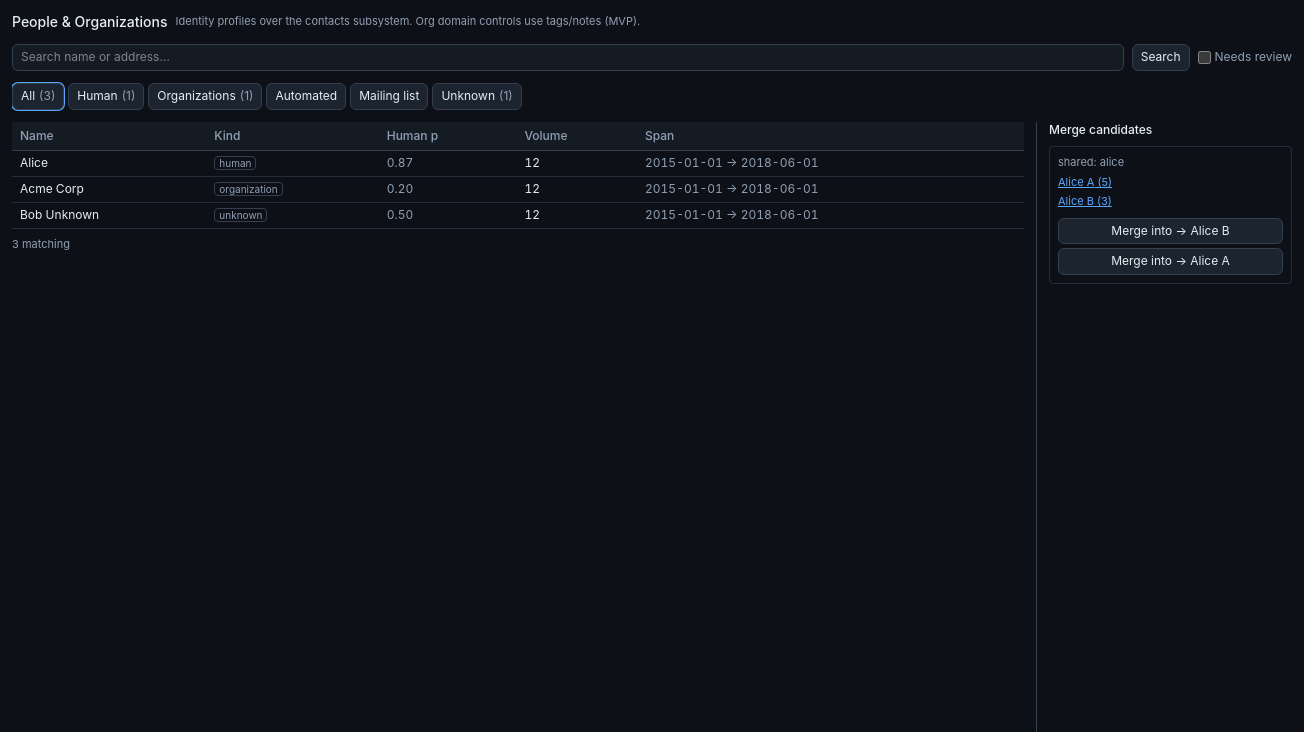
Test: PeoplePage › needs-review toggle filters to unknown queue
expect the row with test id "people-row-c1" is shown: met, box [12, 151, 1024, 177]
Click the checkbox with test id "people-needs-review": (1204, 57) [1198, 51, 1211, 64]
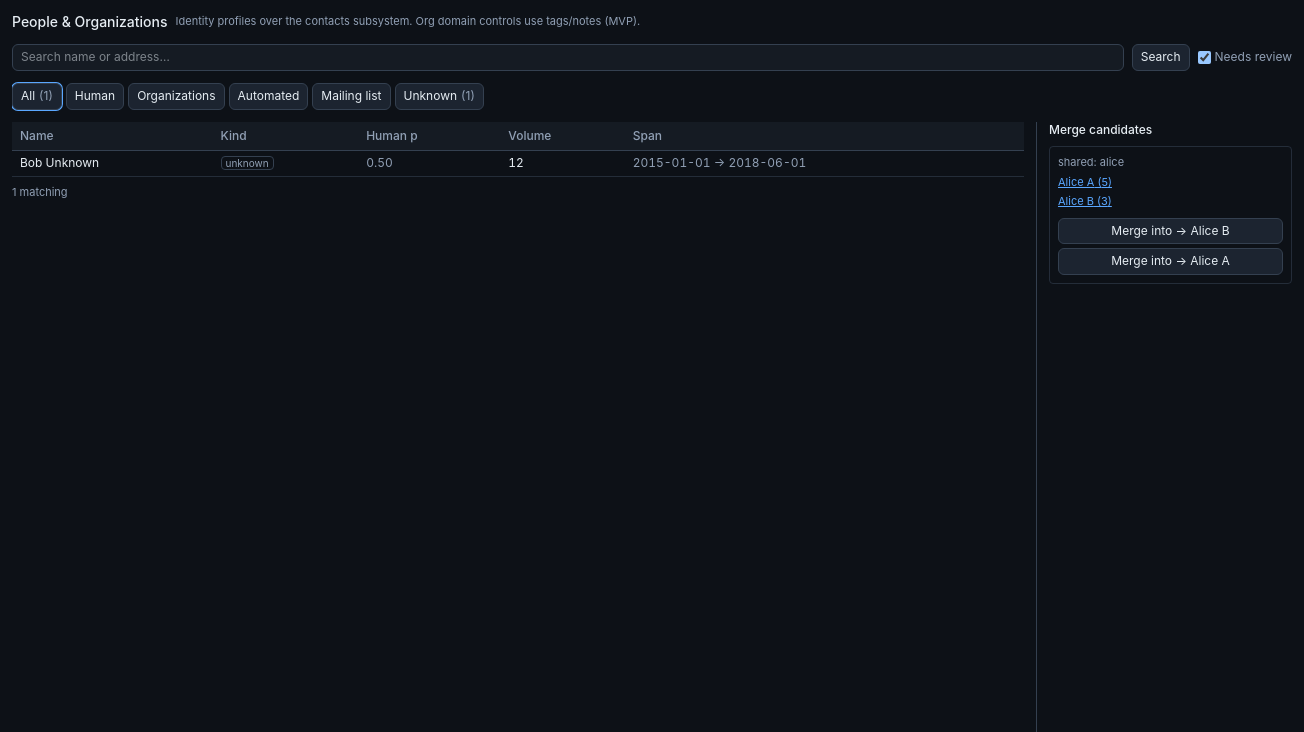
expect the row with test id "people-row-c3" is shown: met, box [12, 151, 1024, 177]
expect the row with test id "people-row-c1" is gone: met
